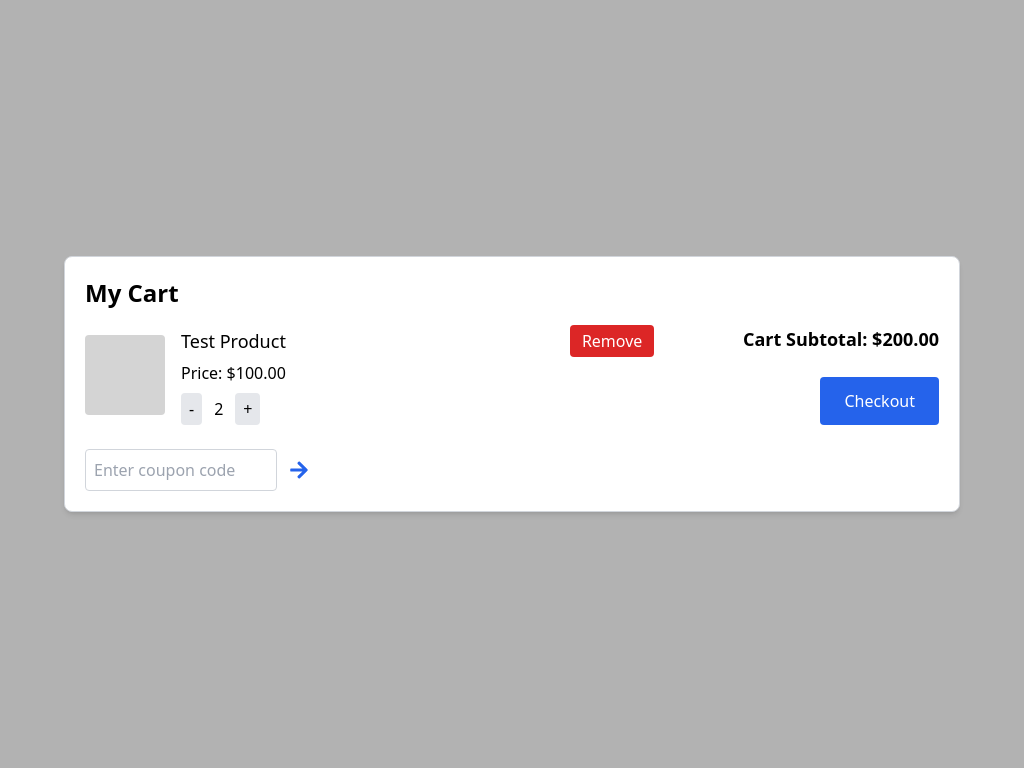
Test: Cart component › increases quantity when + button is clicked
# Click the "+" button and wait for the quantity to update to 3
Click the button "+". click: (248, 409)
box: [235,393,260,425]
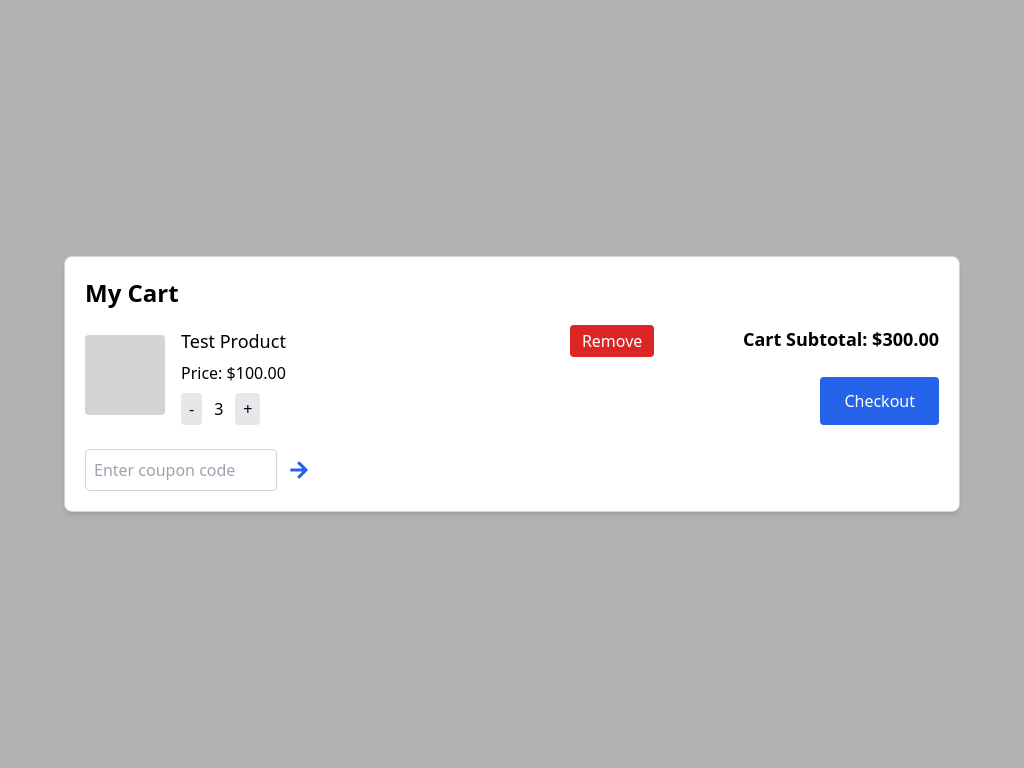
Expected: the text "3" is shown, [214,397,223,421]
